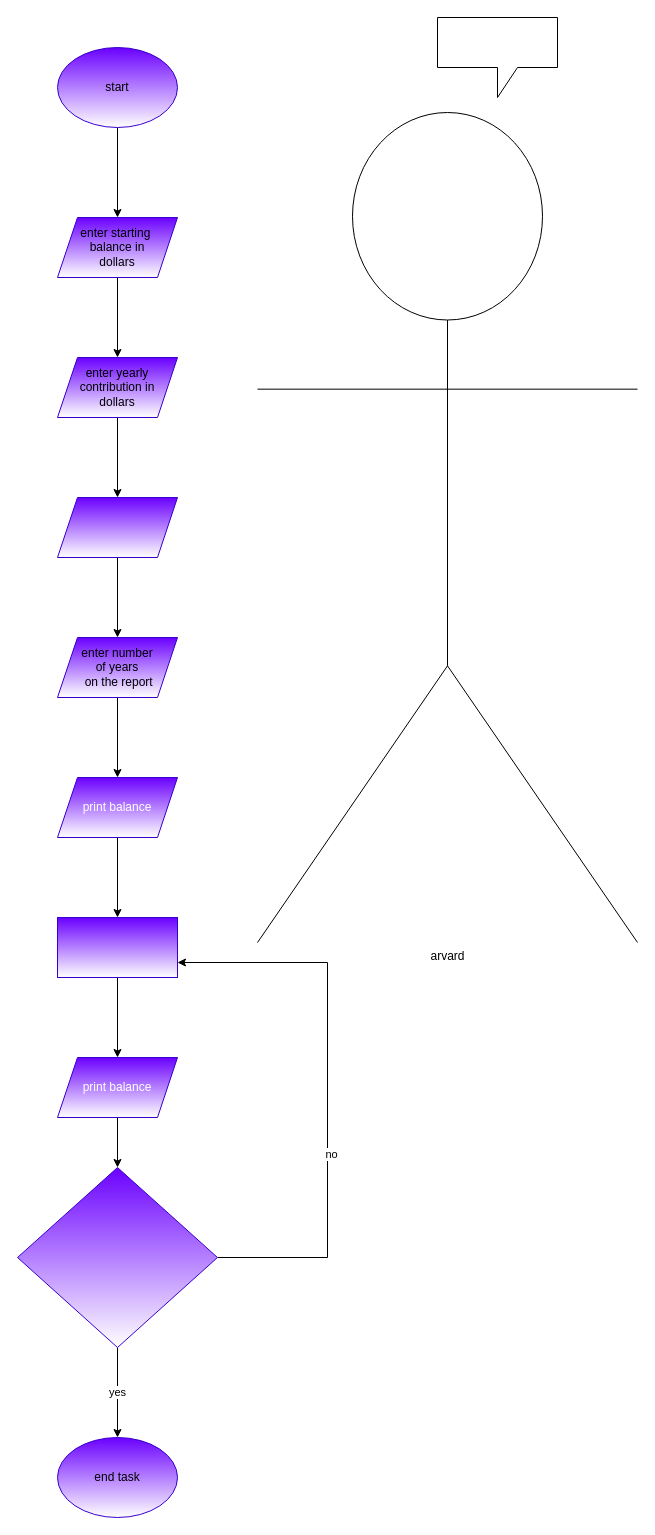
The diagram is 655 pixels wide and 1535 high, and some of its shapes have lost their labels. The centre of each missing label's shape, as x and y in pixels:
"calculate next year ballance (roi/100+1)*(balance+yc)" belongs at (x=117, y=947).
"enter average return on investment as %" belongs at (x=117, y=527).
"have printed balance years +1 times?" belongs at (x=117, y=1257).
"me flowchart be working" belongs at (x=497, y=57).
